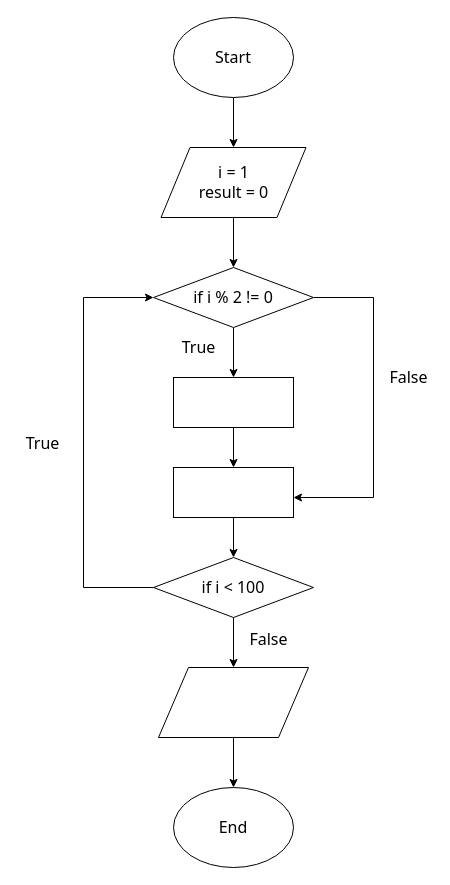
This 450x885 diagram has some shape labels left out. Each missing label, with the centre of its shape:
"i += 1" belongs at (x=233, y=492).
"print(result)" belongs at (x=233, y=702).
"result += i" belongs at (x=233, y=402).
